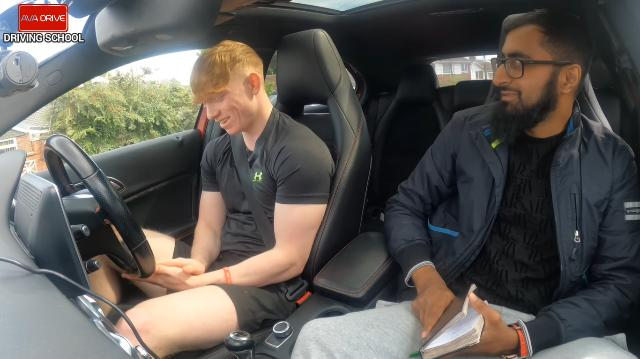no seatbelt: (432, 120, 640, 346)
seatbelt: (162, 128, 328, 342)
